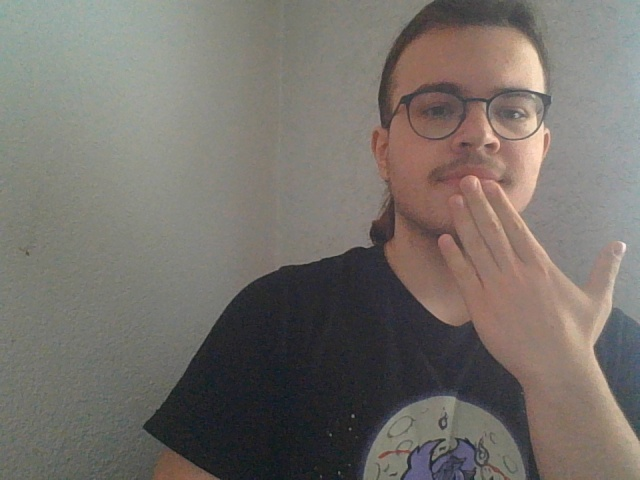ThankYou: (436, 173, 629, 480)
